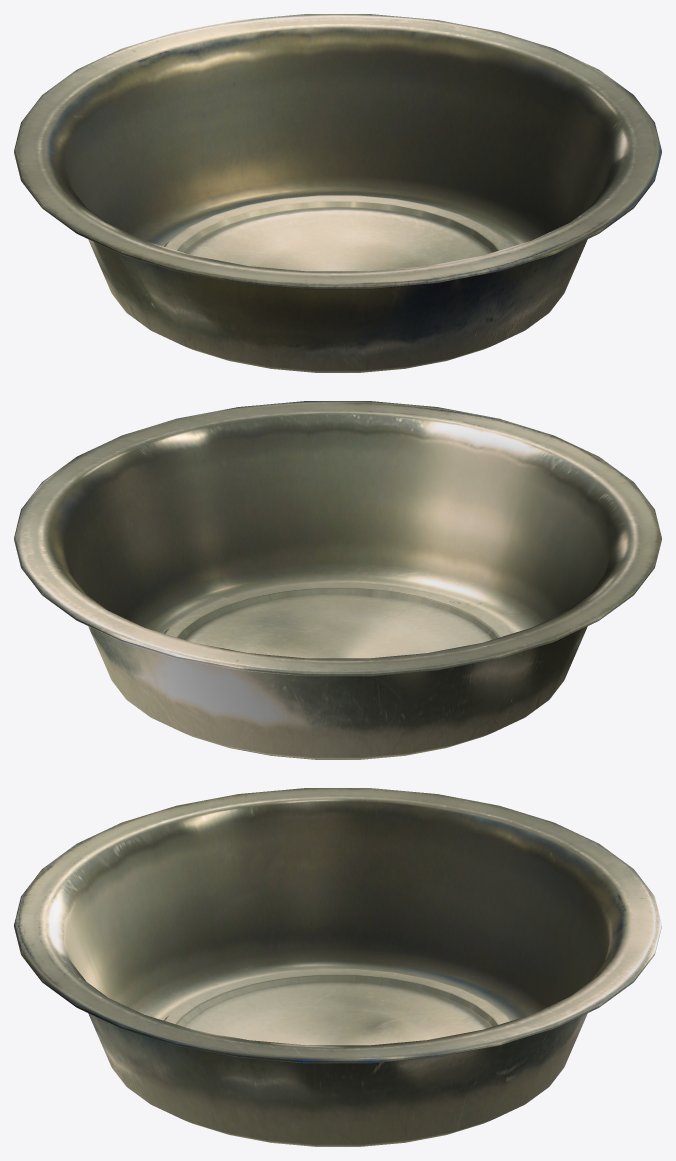
The model's file is Basin.fbx.
3 views of the same model, one above another, from view 1: azimuth 30°, elevation 25°; view 2: azimuth 150°, elevation 25°; view 3: azimuth 270°, elevation 25° (orthographic).
Visible parts, largest first — view 1: BasinSmall015; view 2: BasinSmall015; view 3: BasinSmall015.
Part boxes in pixels (left/top/right/bottom): BasinSmall015: left=14, top=14, right=661, bottom=372; BasinSmall015: left=14, top=401, right=661, bottom=759; BasinSmall015: left=14, top=788, right=661, bottom=1146.
Bounding box in the file's own units: 47.74 × 10.77 × 48.
Materials: 2 (2 with a texture image).
